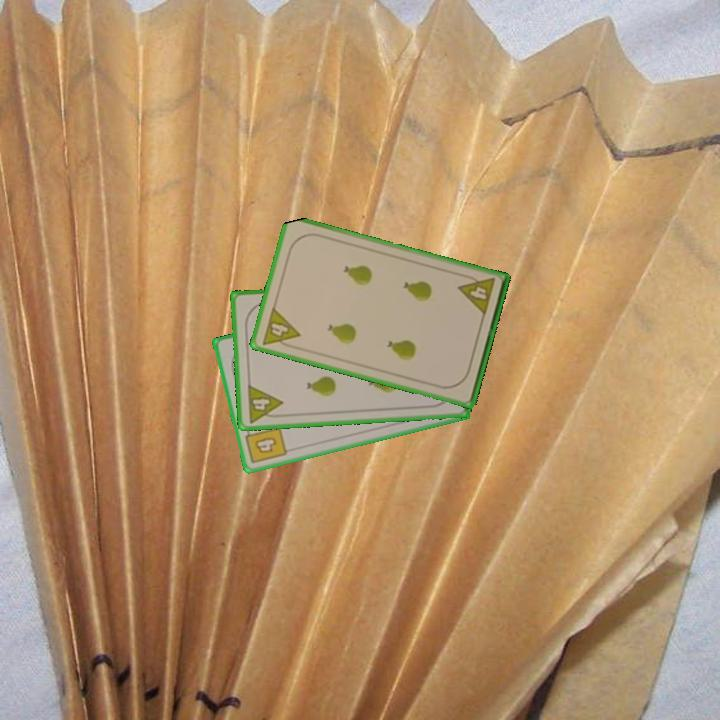4b: (242, 423, 290, 467)
4p: (258, 304, 303, 352), (455, 271, 498, 319), (244, 381, 286, 425)
